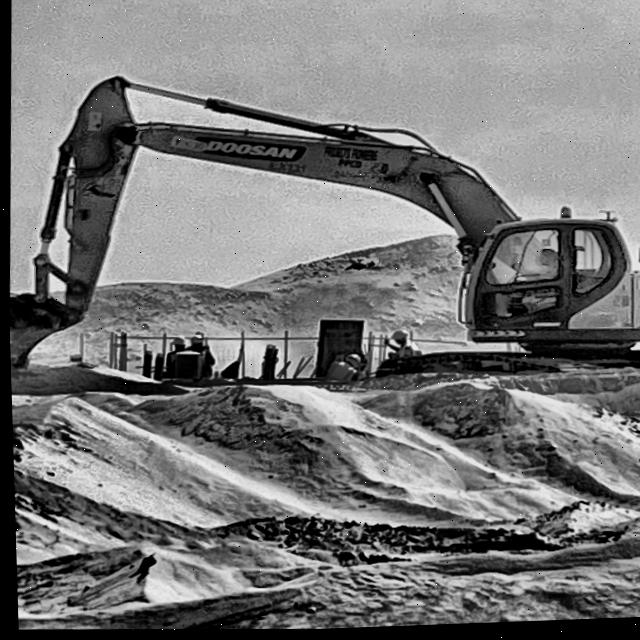excavator: (1, 44, 640, 439)
